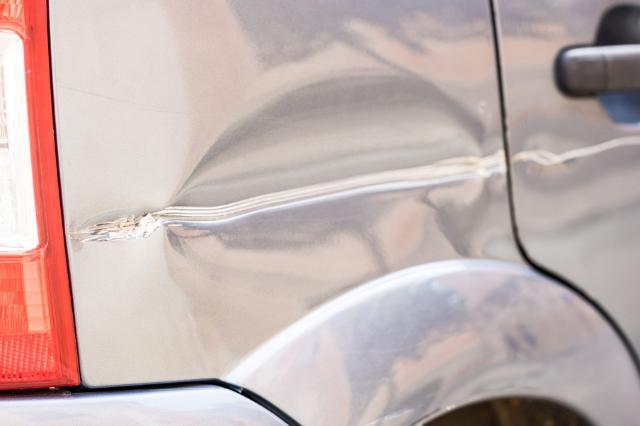Fender: (49, 0, 555, 346)
